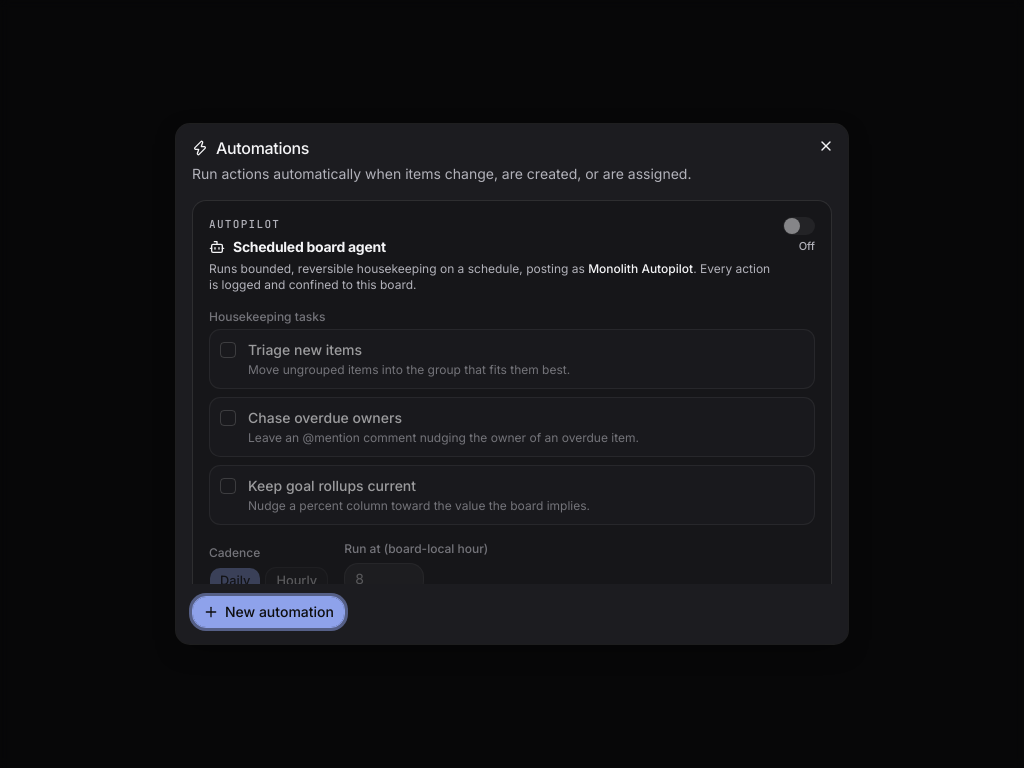
describe-an-automation (AI) › seeds the builder and surfaces warnings on a successful generate
Click the button "New automation".
click(268, 612)  # box [192,596,345,628]
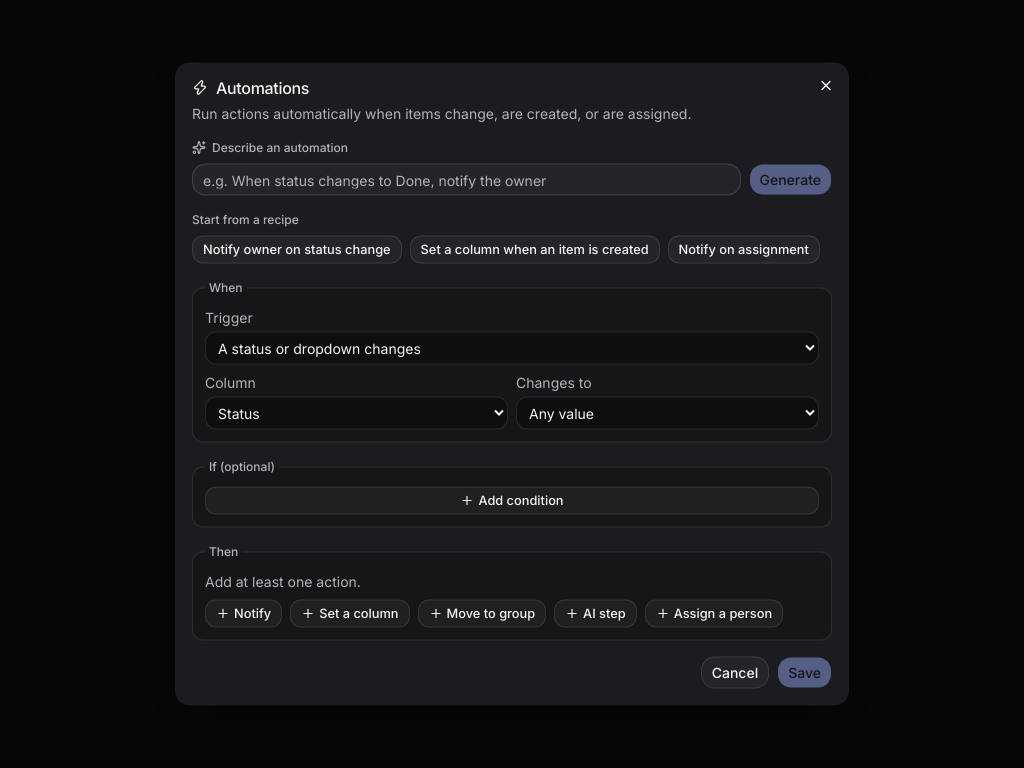
Type "when an item is created set it to done" into the field named "Describe an automation".
click(466, 180); type("when an item is created set it to done")  # box [192,164,740,196]
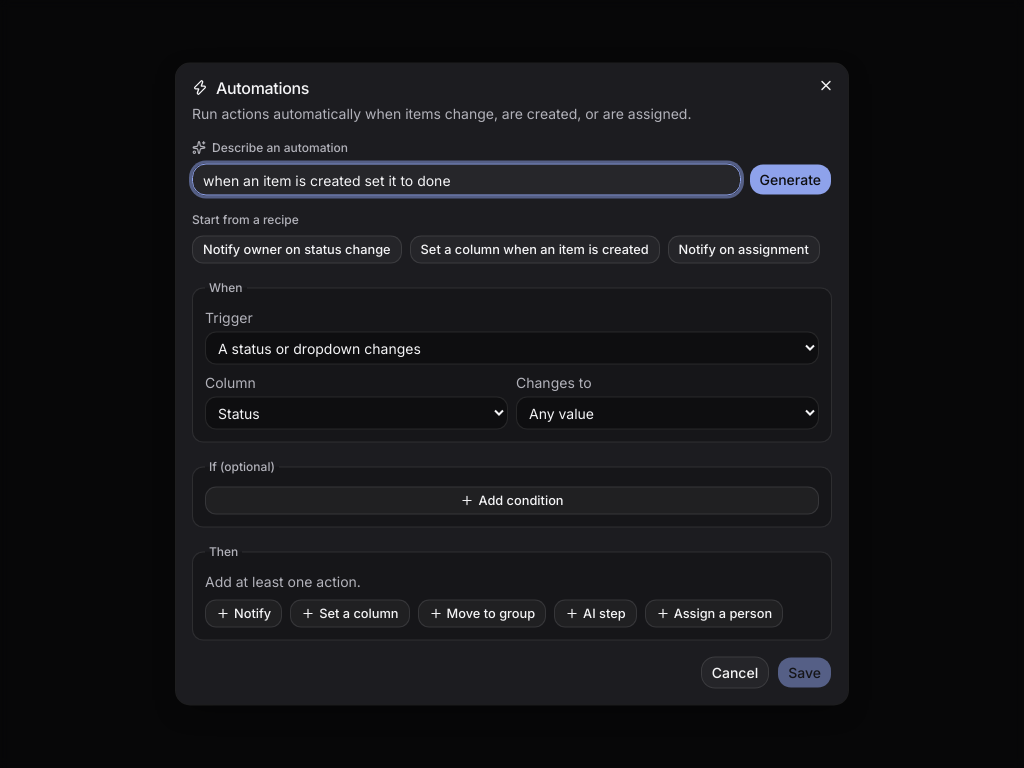
Click the button "Generate".
click(790, 180)  # box [748,164,832,196]
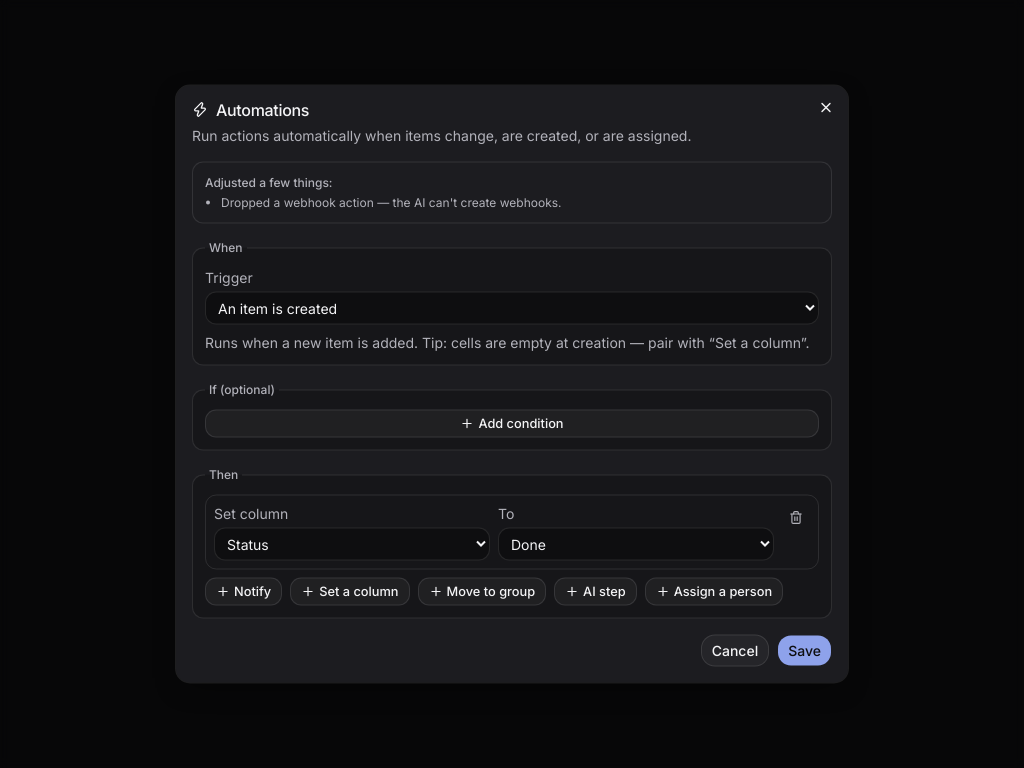
Expected: the dropdown named "Trigger type" shows "An item is created", [205,292,819,324]
Expected: the dropdown labelled "Set column" is shown, [214,528,490,560]
Expected: the list item "Dropped a webhook action — the AI can't create webhooks." is shown, [221,194,562,210]
